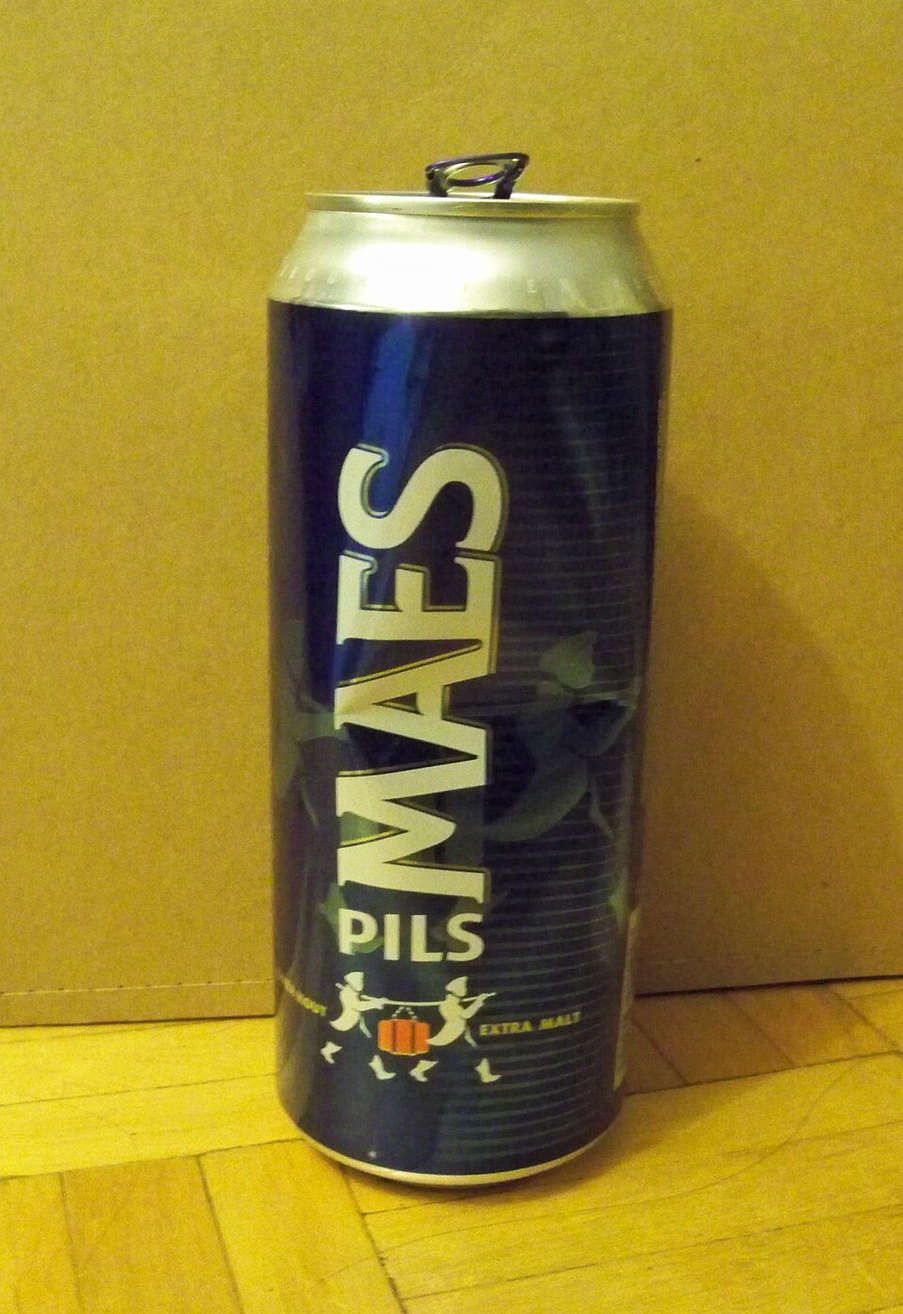beer-can: (254, 167, 661, 1199)
